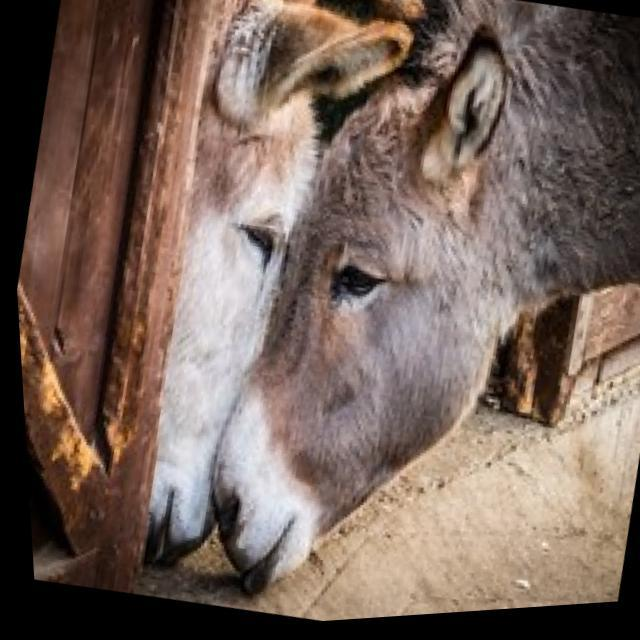Donkey: (200, 0, 640, 630), (0, 0, 430, 626)
